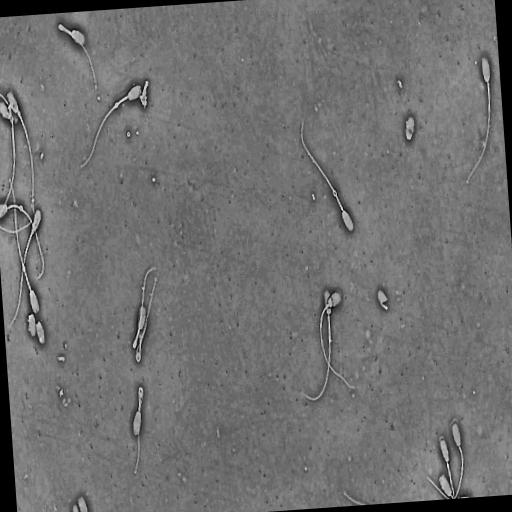dirt-particles: (138, 78, 151, 111), (377, 290, 388, 310), (397, 79, 404, 89)
distal-droplet: (333, 190, 337, 197), (19, 205, 23, 212), (115, 102, 119, 108), (23, 264, 25, 272)
folded-tail: (59, 24, 96, 88), (133, 268, 155, 348), (141, 280, 156, 340), (134, 387, 143, 473), (136, 340, 142, 362)
loose-head: (404, 113, 416, 142), (35, 319, 46, 347), (27, 312, 37, 338)
normal: (299, 116, 355, 234), (79, 81, 143, 170), (6, 207, 43, 331), (8, 176, 40, 316), (5, 89, 36, 220), (318, 289, 356, 391), (301, 286, 333, 402), (0, 201, 45, 282), (465, 53, 492, 185), (56, 20, 99, 91), (131, 263, 157, 350), (134, 274, 158, 364), (131, 384, 144, 476), (451, 420, 466, 497)
proximal-droplet: (31, 228, 34, 235), (18, 111, 21, 117)
